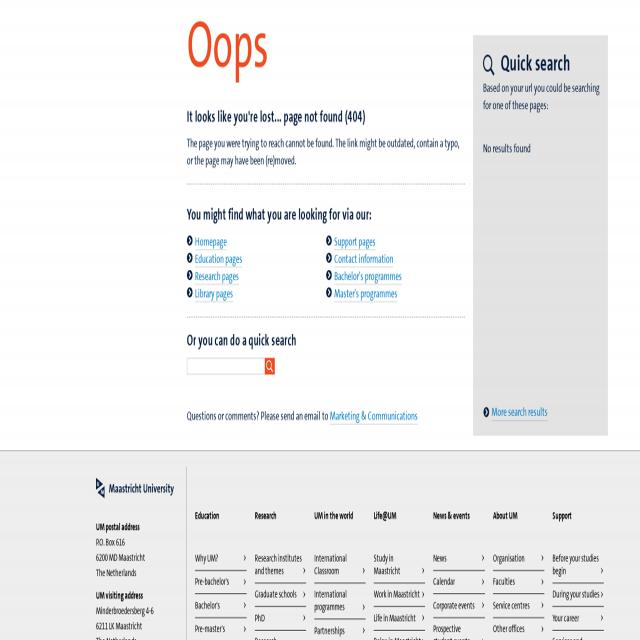button: (92, 472, 178, 504), (265, 358, 275, 375)
field: (187, 358, 275, 375)
